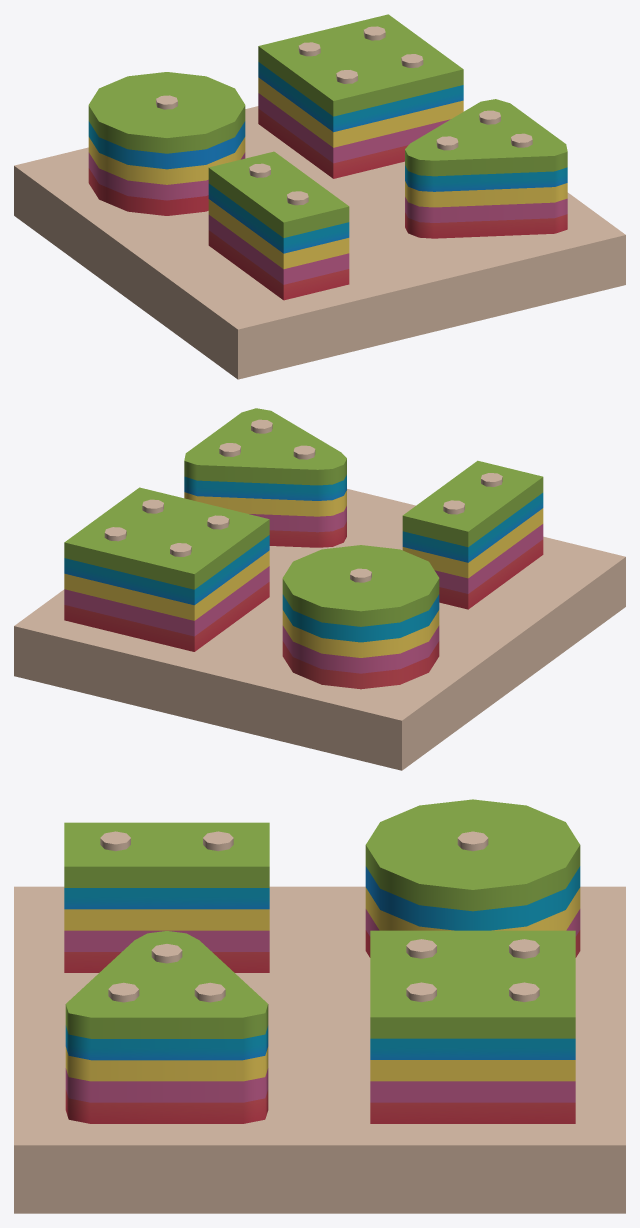
Rendered from SM_Geometric_Sorting_Board_01.fbx.
3 views of the same model, one above another, from view 1: azimuth 30°, elevation 25°; view 2: azimuth 150°, elevation 25°; view 3: azimuth 270°, elevation 25° (orthographic). The views are drawn at different scales.
Parts seen in each view (by area): view 1: SM_Geometric_Sorting_Board_01; view 2: SM_Geometric_Sorting_Board_01; view 3: SM_Geometric_Sorting_Board_01.
Part boxes in pixels (x1,y1,x2,y2): SM_Geometric_Sorting_Board_01: [14, 14, 625, 379]; SM_Geometric_Sorting_Board_01: [14, 408, 625, 770]; SM_Geometric_Sorting_Board_01: [14, 799, 625, 1213].
Bounding box in the file's own units: 38.66 × 12.66 × 38.66.
